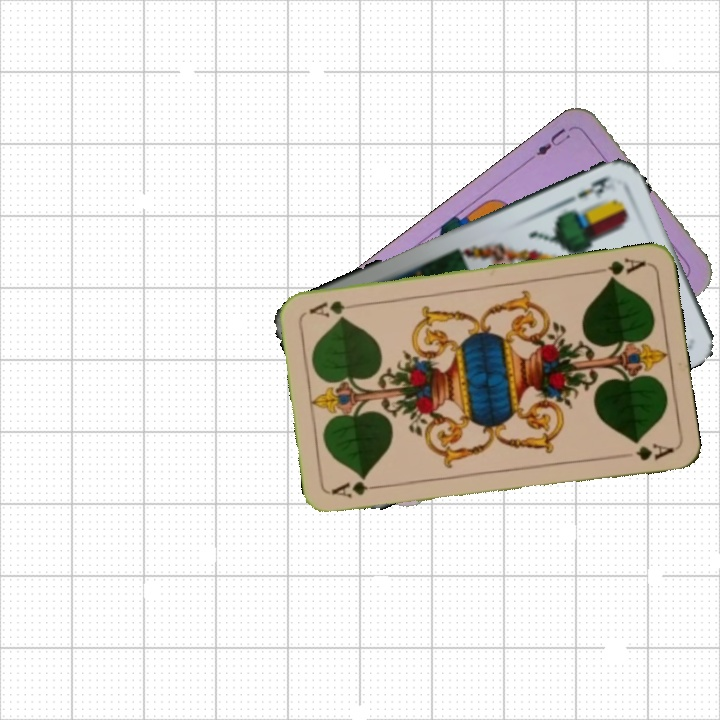EK: (561, 172, 611, 207)
EU: (532, 122, 578, 159)
GA: (590, 253, 648, 283), (327, 477, 387, 500)
